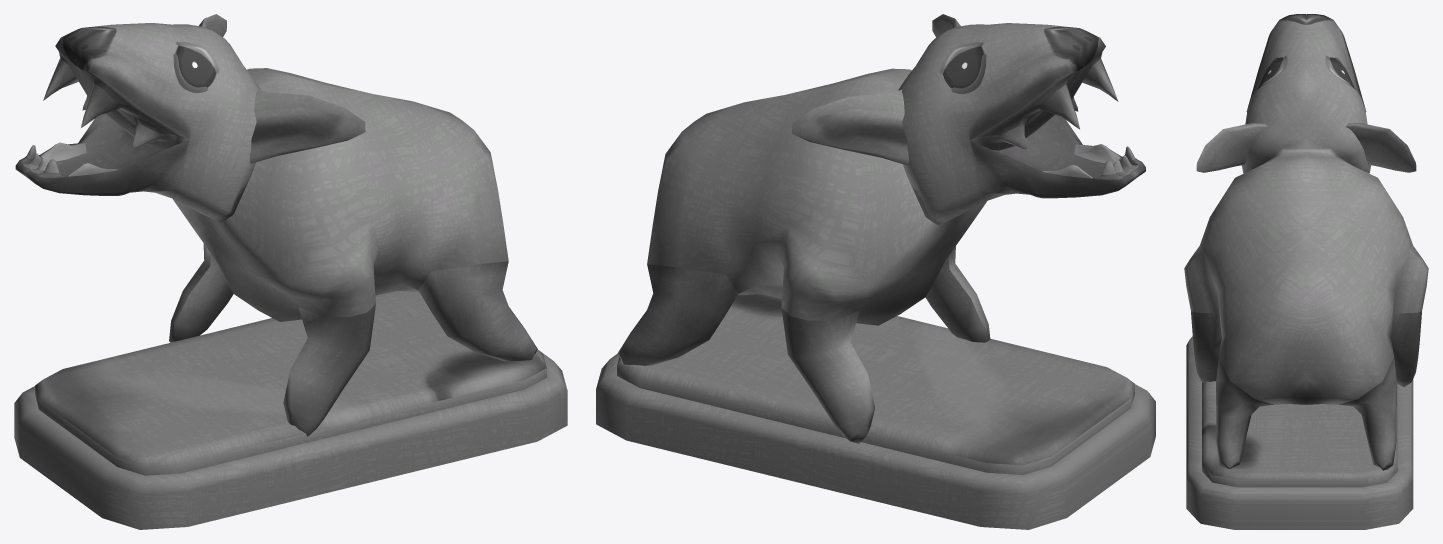
The model's file is GoldBunyipStatueHand.fbx.
The picture shows the model from 3 angles, left to right: view 1: azimuth 30°, elevation 25°; view 2: azimuth 150°, elevation 25°; view 3: azimuth 270°, elevation 25°; orthographic projection. The views are drawn at different scales.
Parts seen in each view (by area): view 1: BunyipStatue (2), BunyipStatue (4); view 2: BunyipStatue (2), BunyipStatue (4); view 3: BunyipStatue (2), BunyipStatue (4).
Boxes of the visible parts, x1=… form: BunyipStatue (2): x1=15, y1=14, x2=537, y2=436; BunyipStatue (4): x1=14, y1=290, x2=567, y2=529; BunyipStatue (2): x1=617, y1=14, x2=1145, y2=443; BunyipStatue (4): x1=596, y1=294, x2=1155, y2=529; BunyipStatue (2): x1=1184, y1=14, x2=1428, y2=470; BunyipStatue (4): x1=1186, y1=336, x2=1413, y2=529.
Bounding box in the file's own units: 1.32 × 1.14 × 0.7149.
Materials: 2 (2 with a texture image).
